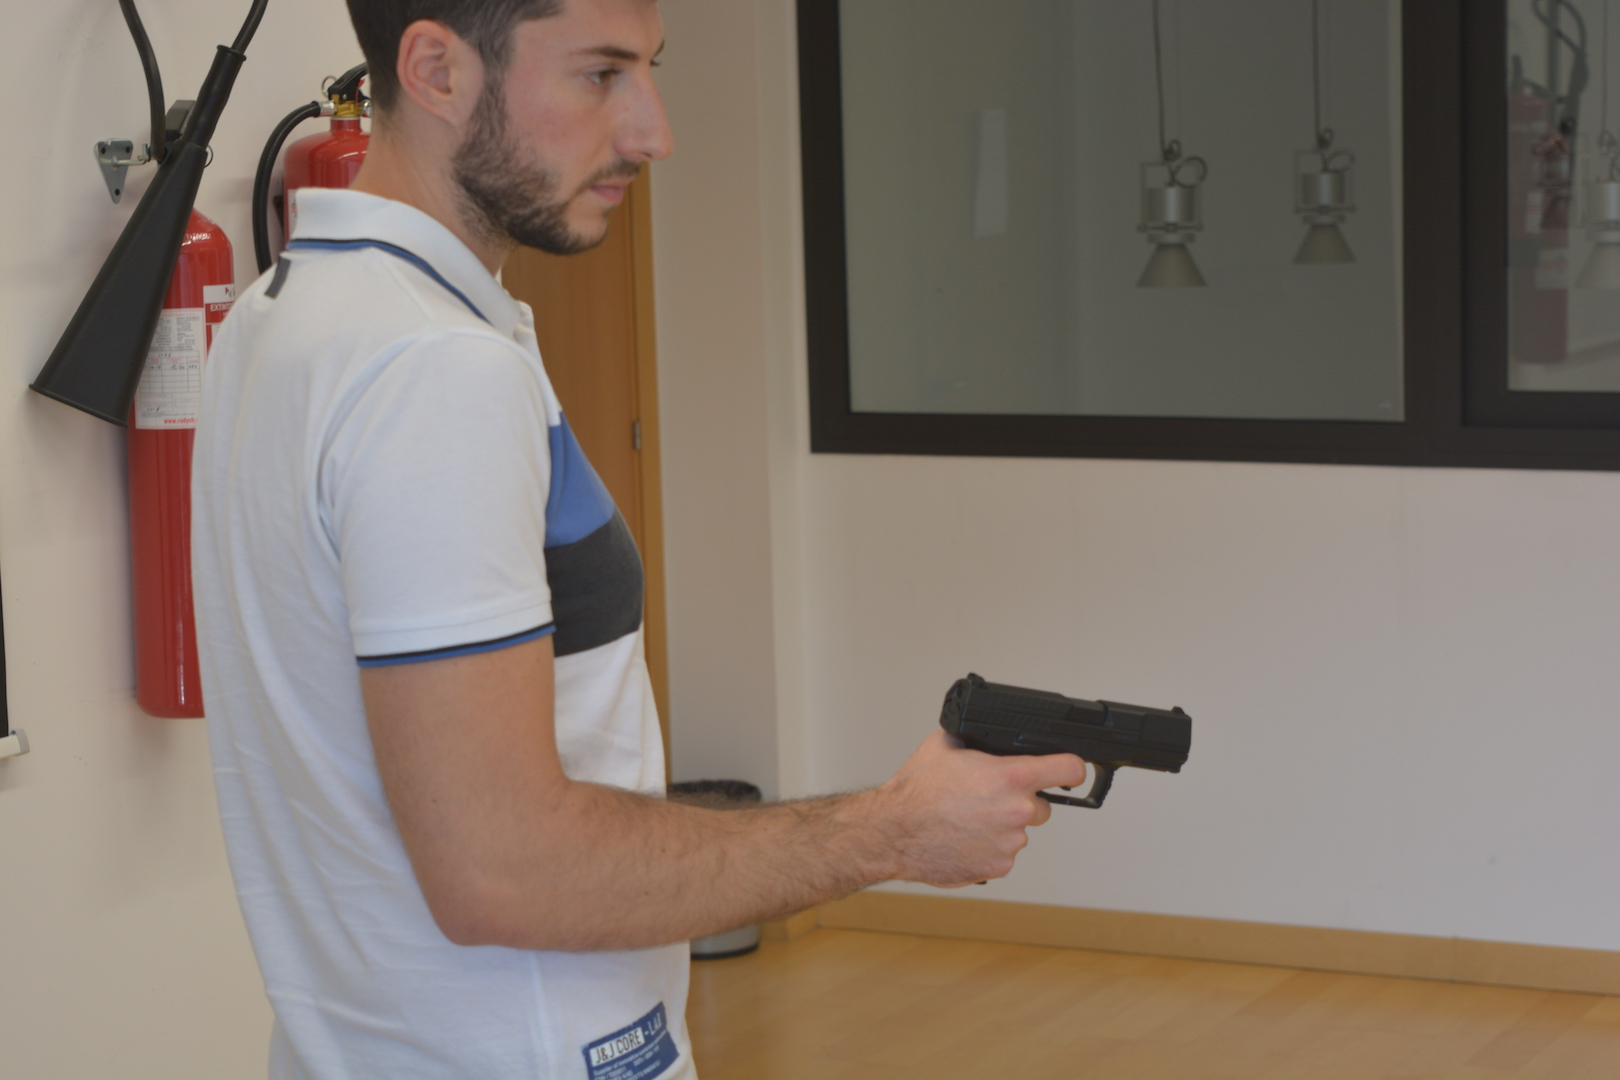pistol: (938, 673, 1195, 886)
